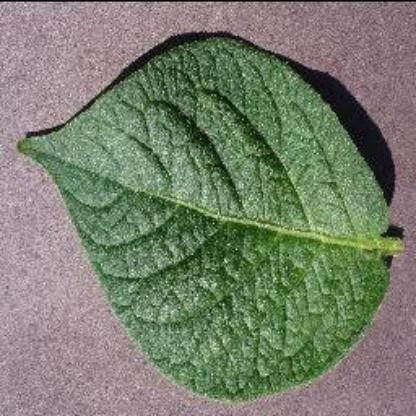Healthy-plant: (19, 35, 412, 404)
